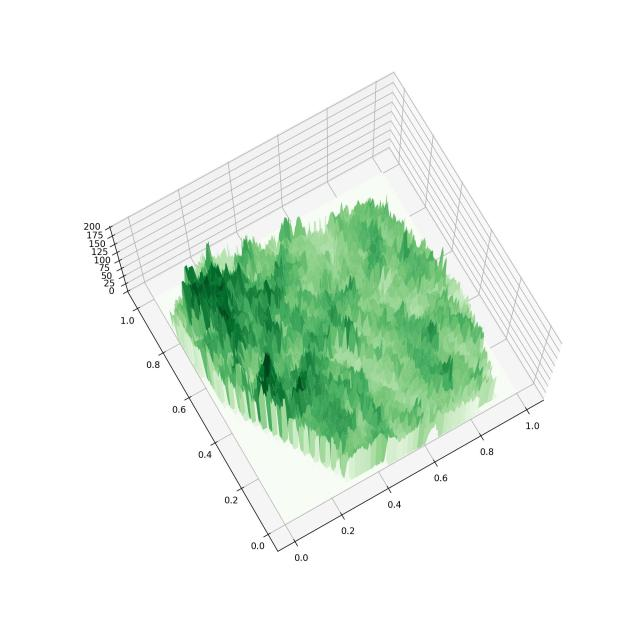spruce: (64, 39, 594, 576)
